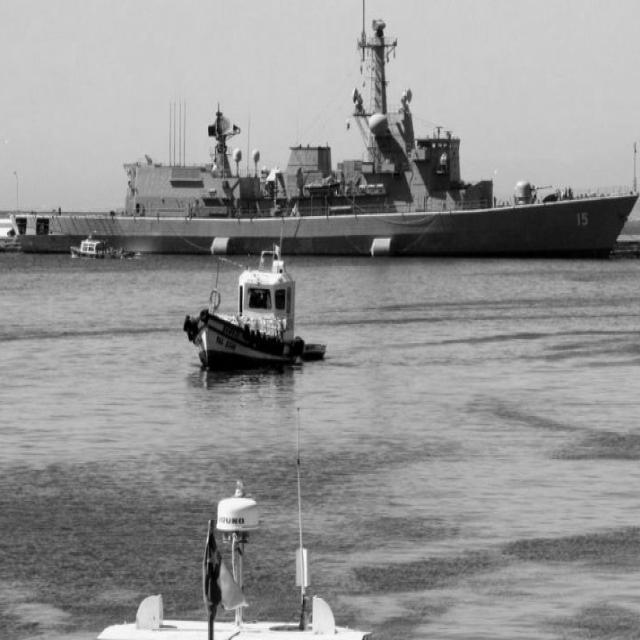Fragata: (12, 1, 640, 266)
